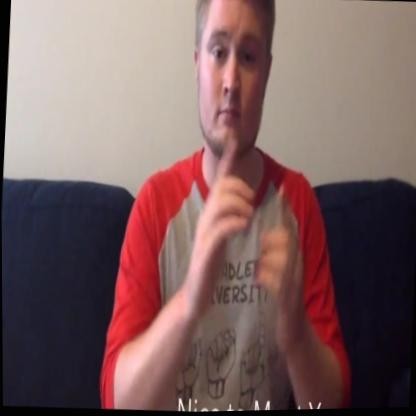NiceToMeetYou: (180, 133, 312, 364)
